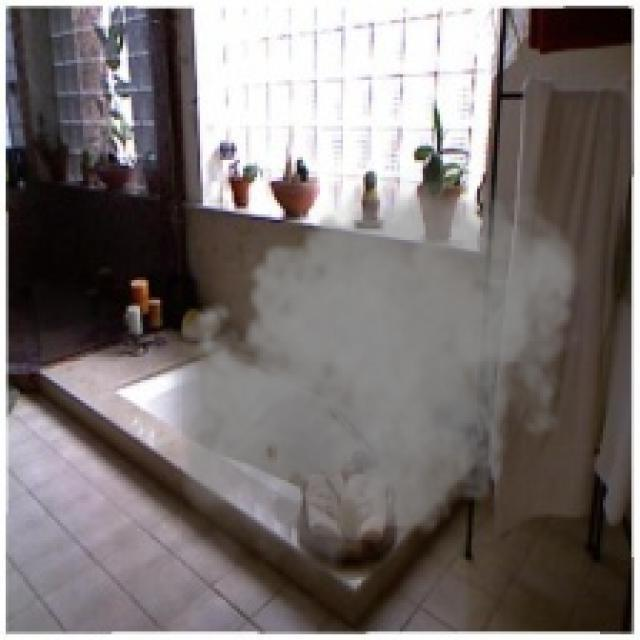Smoke: (165, 166, 586, 588)
